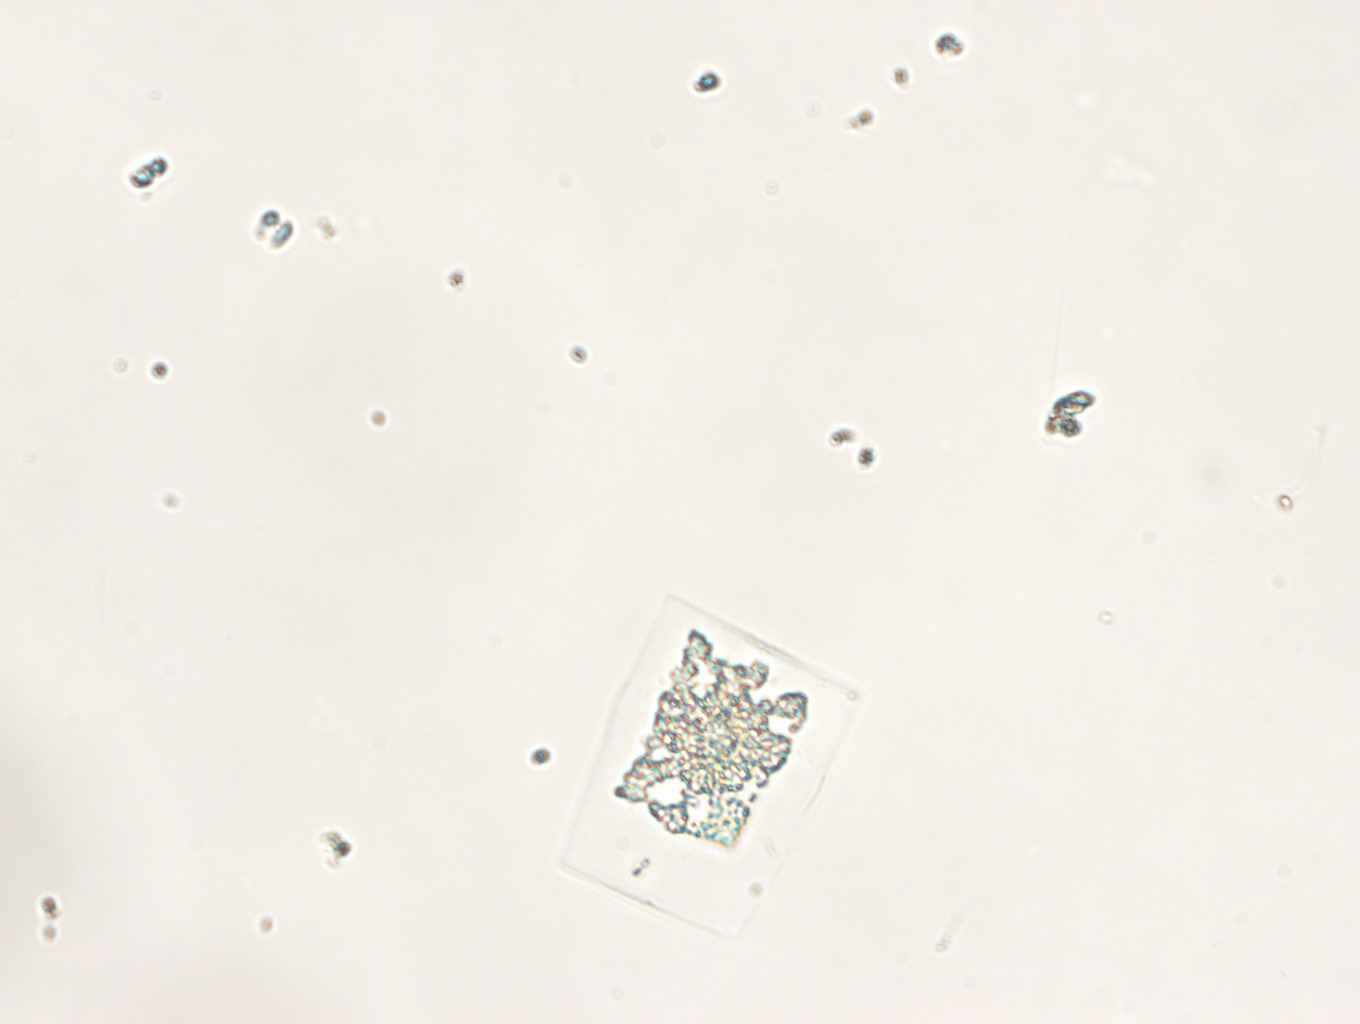helicotheca: (564, 591, 859, 944)
